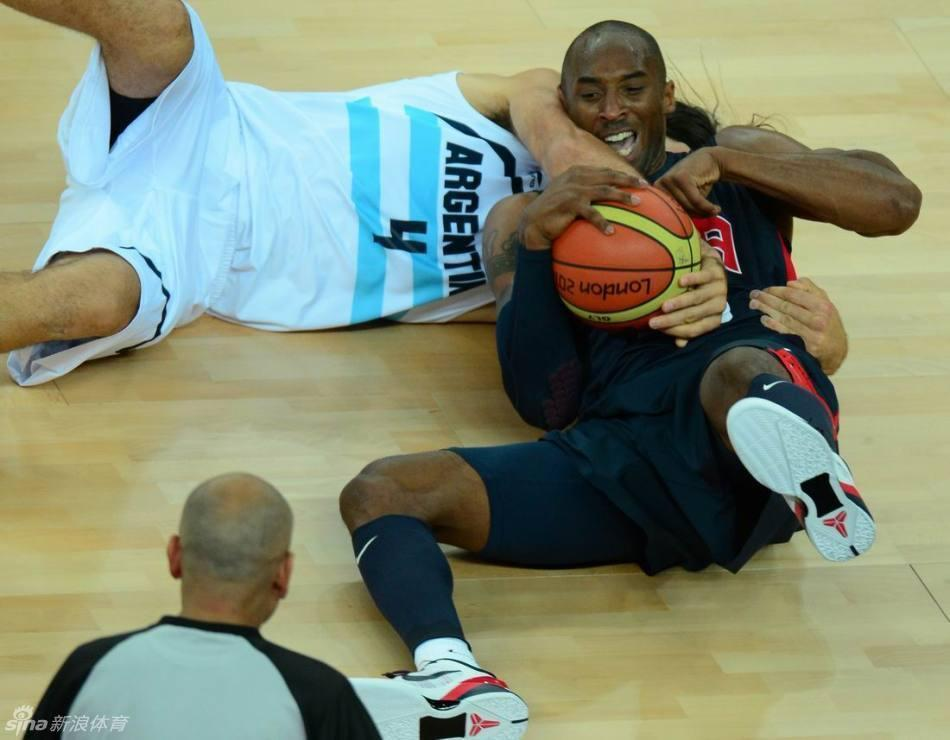Fall-Detected: (253, 5, 910, 736)
